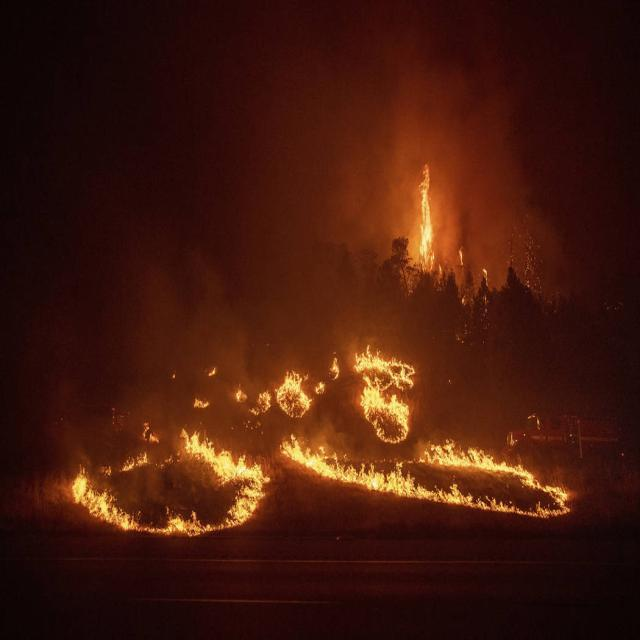Fire: (38, 408, 610, 558), (184, 334, 478, 464), (388, 48, 512, 280), (336, 416, 547, 534), (170, 404, 274, 522), (402, 150, 468, 280), (276, 370, 312, 414)
Smoke: (12, 60, 225, 328), (195, 46, 371, 308), (528, 32, 634, 302)
